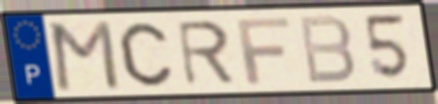5: (360, 13, 414, 84)
B: (296, 13, 359, 86)
C: (116, 19, 175, 89)
F: (233, 15, 293, 86)
M: (48, 18, 122, 93)
R: (174, 18, 238, 88)
